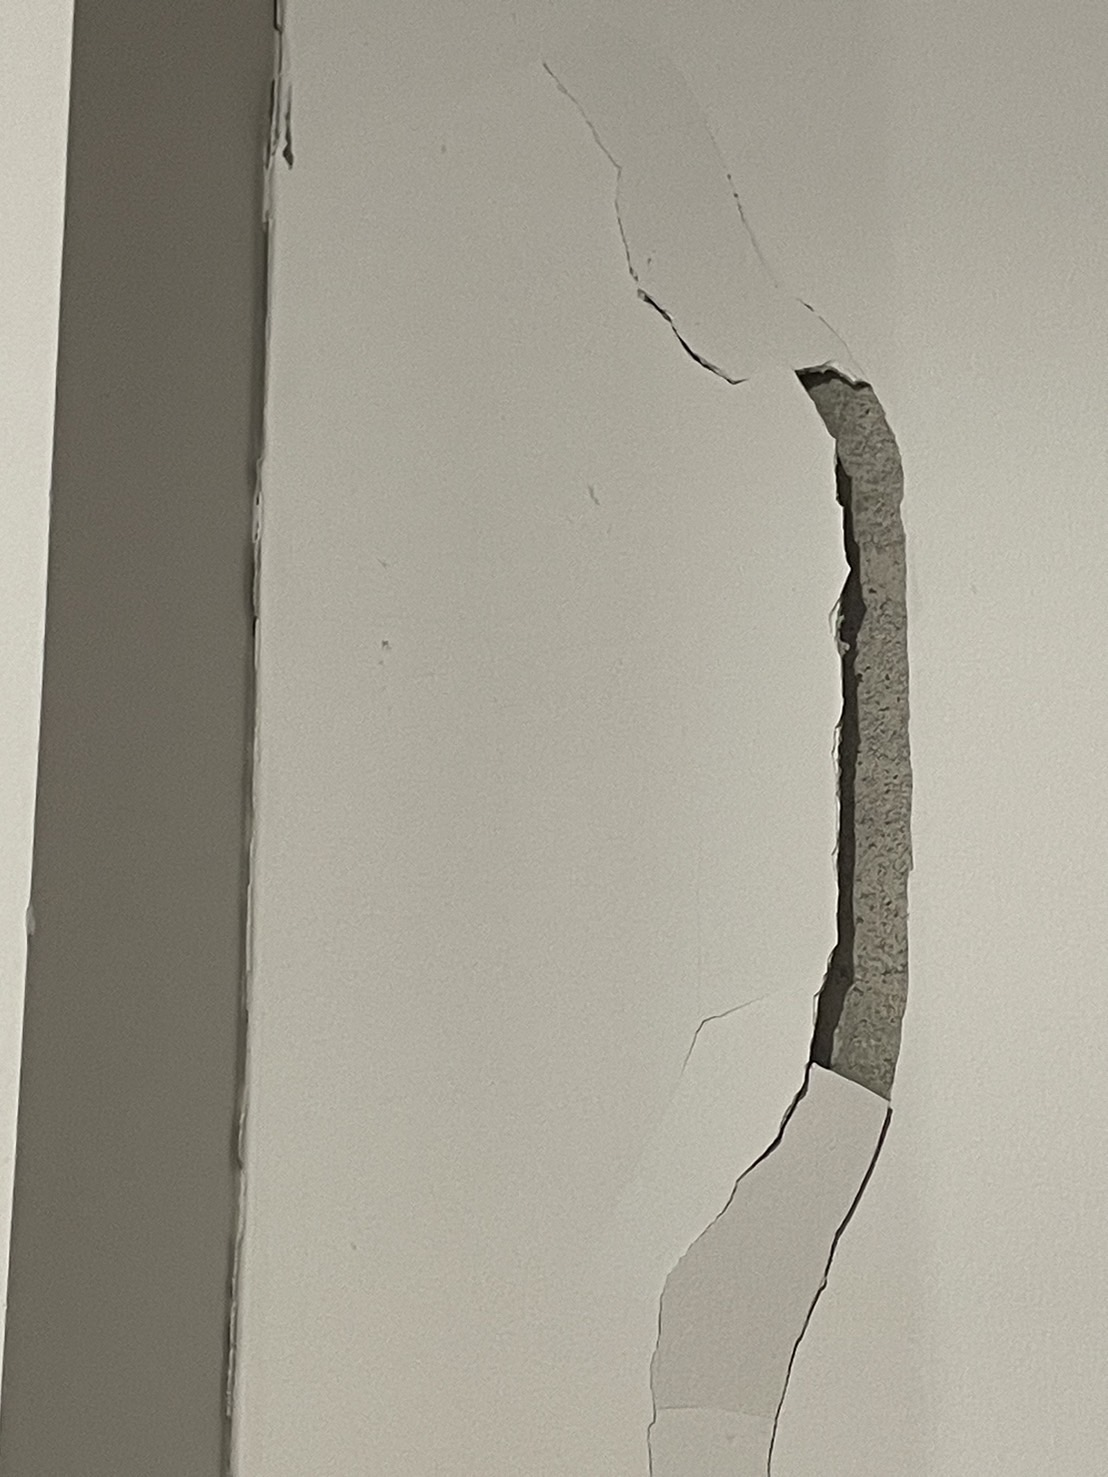Medium: (596, 170, 956, 1348)
